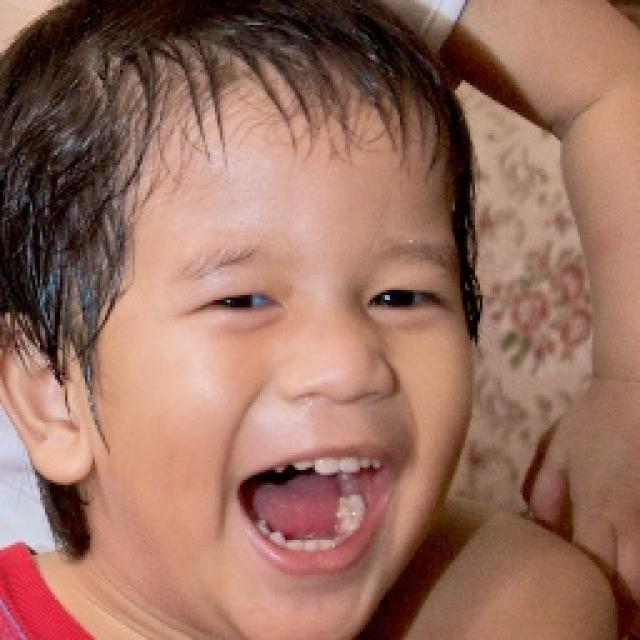earlobe: (0, 311, 98, 486)
